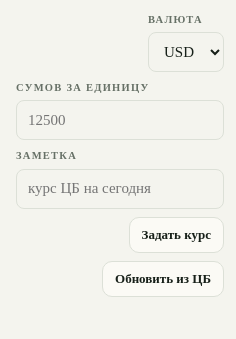
Test: финансовые формы › показывает ошибку курса и не очищает введённое значение
Type "-1" into the field labelled "Сумов за единицу".
click(120, 120); type("-1")  # box [16, 100, 224, 140]
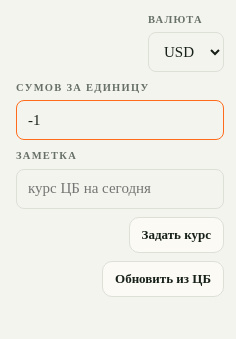
Type "ручной ввод" into the field labelled "Заметка".
click(120, 189); type("ручной ввод")  # box [16, 169, 224, 209]
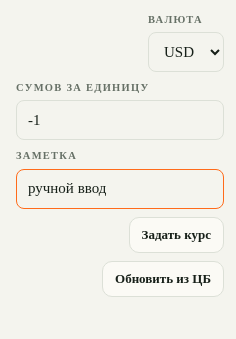
Click the button "Задать курс".
click(176, 235)  # box [129, 217, 224, 253]
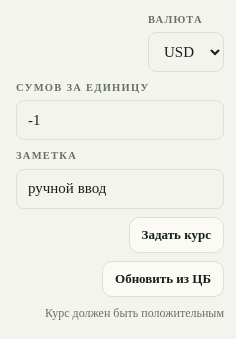
Expected: the text "Курс должен быть положительным" is shown, [45, 305, 224, 322]
